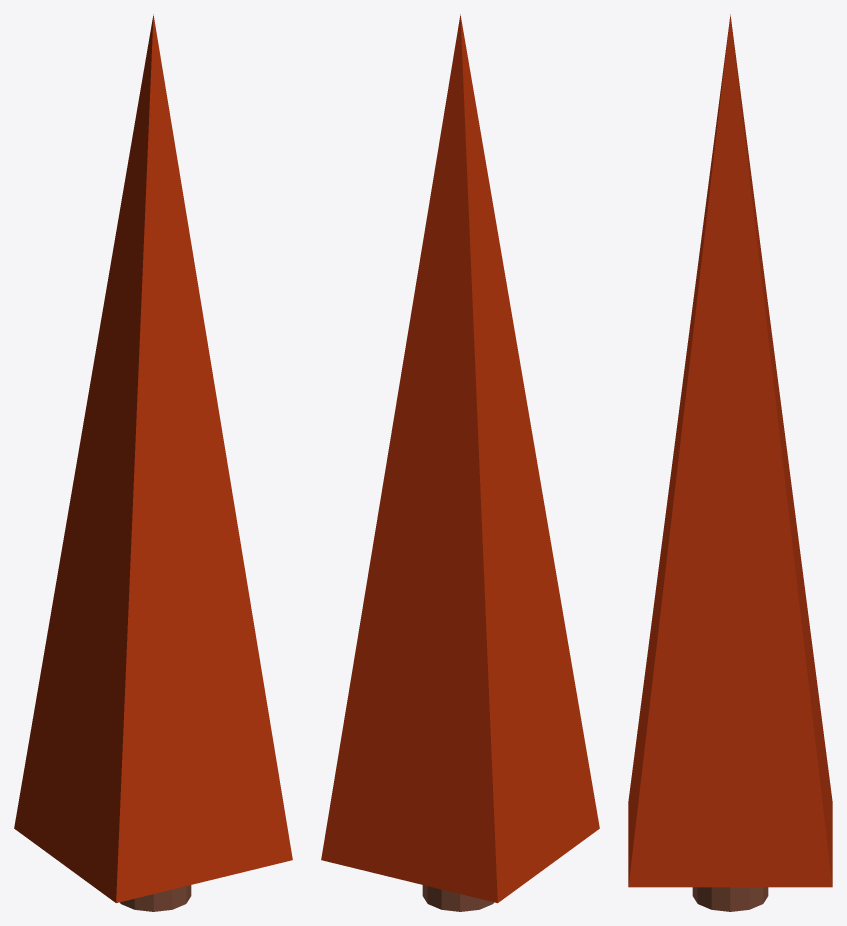
The model's file is Tree_19_summer_red_mat.fbx.
The picture shows the model from 3 angles, left to right: view 1: azimuth 30°, elevation 25°; view 2: azimuth 150°, elevation 25°; view 3: azimuth 270°, elevation 25°; orthographic projection.
Parts seen in each view (by area): view 1: Tree_19_summer_red_mat; view 2: Tree_19_summer_red_mat; view 3: Tree_19_summer_red_mat.
Boxes of the visible parts, bbox=[...] form: Tree_19_summer_red_mat: bbox=[14, 14, 292, 911]; Tree_19_summer_red_mat: bbox=[321, 14, 599, 911]; Tree_19_summer_red_mat: bbox=[628, 14, 832, 911].
Bounding box in the file's own units: 59.69 × 285 × 59.69.
